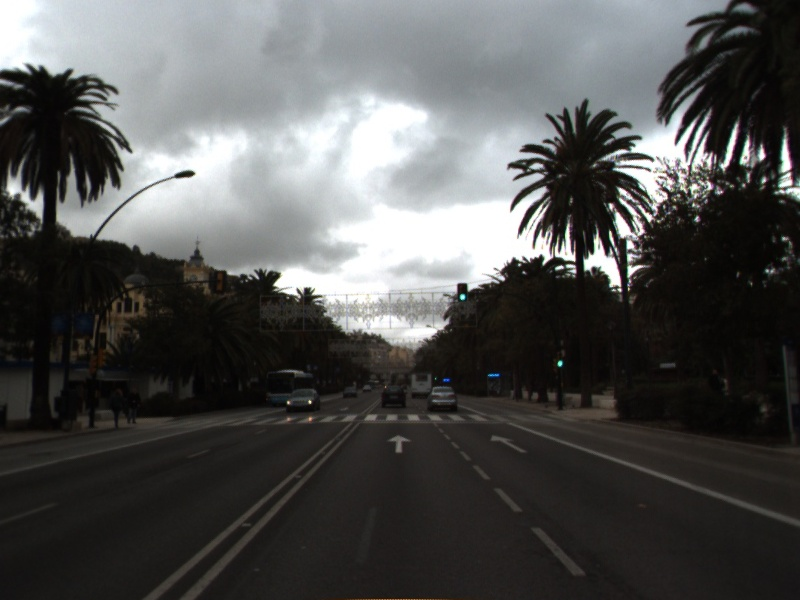STRAIGHT: (488, 432, 530, 455), (384, 432, 414, 454)
